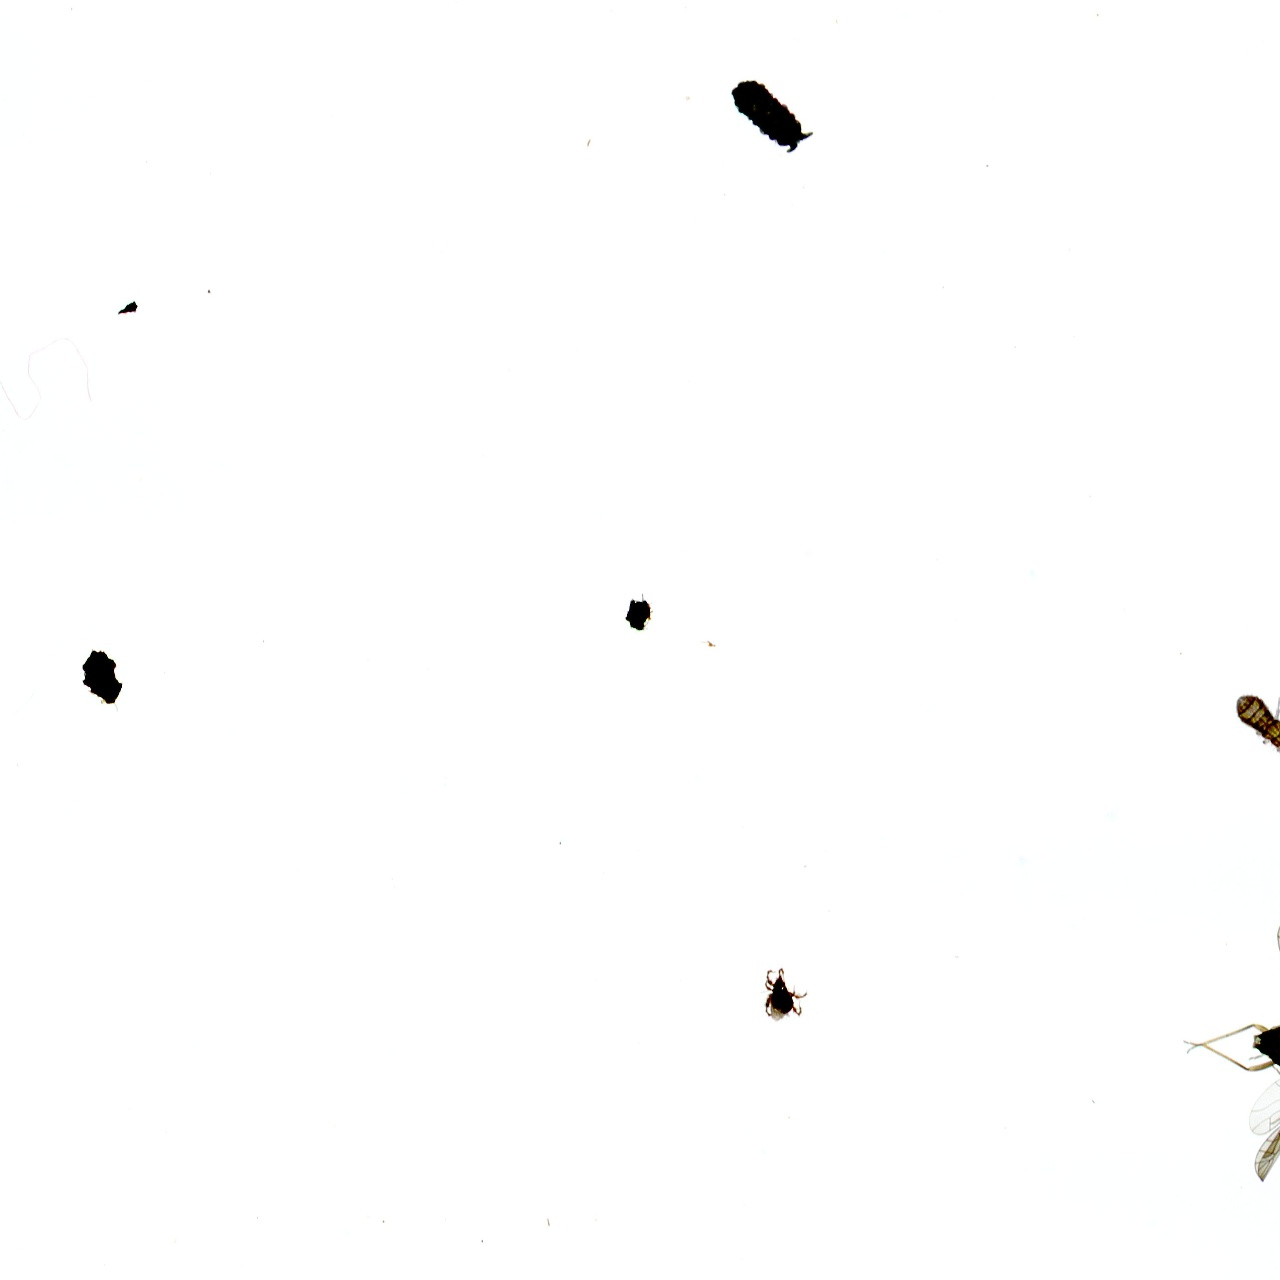arthropod: (1180, 915, 1280, 1186), (720, 67, 819, 165), (1219, 672, 1280, 792), (754, 966, 810, 1024)
